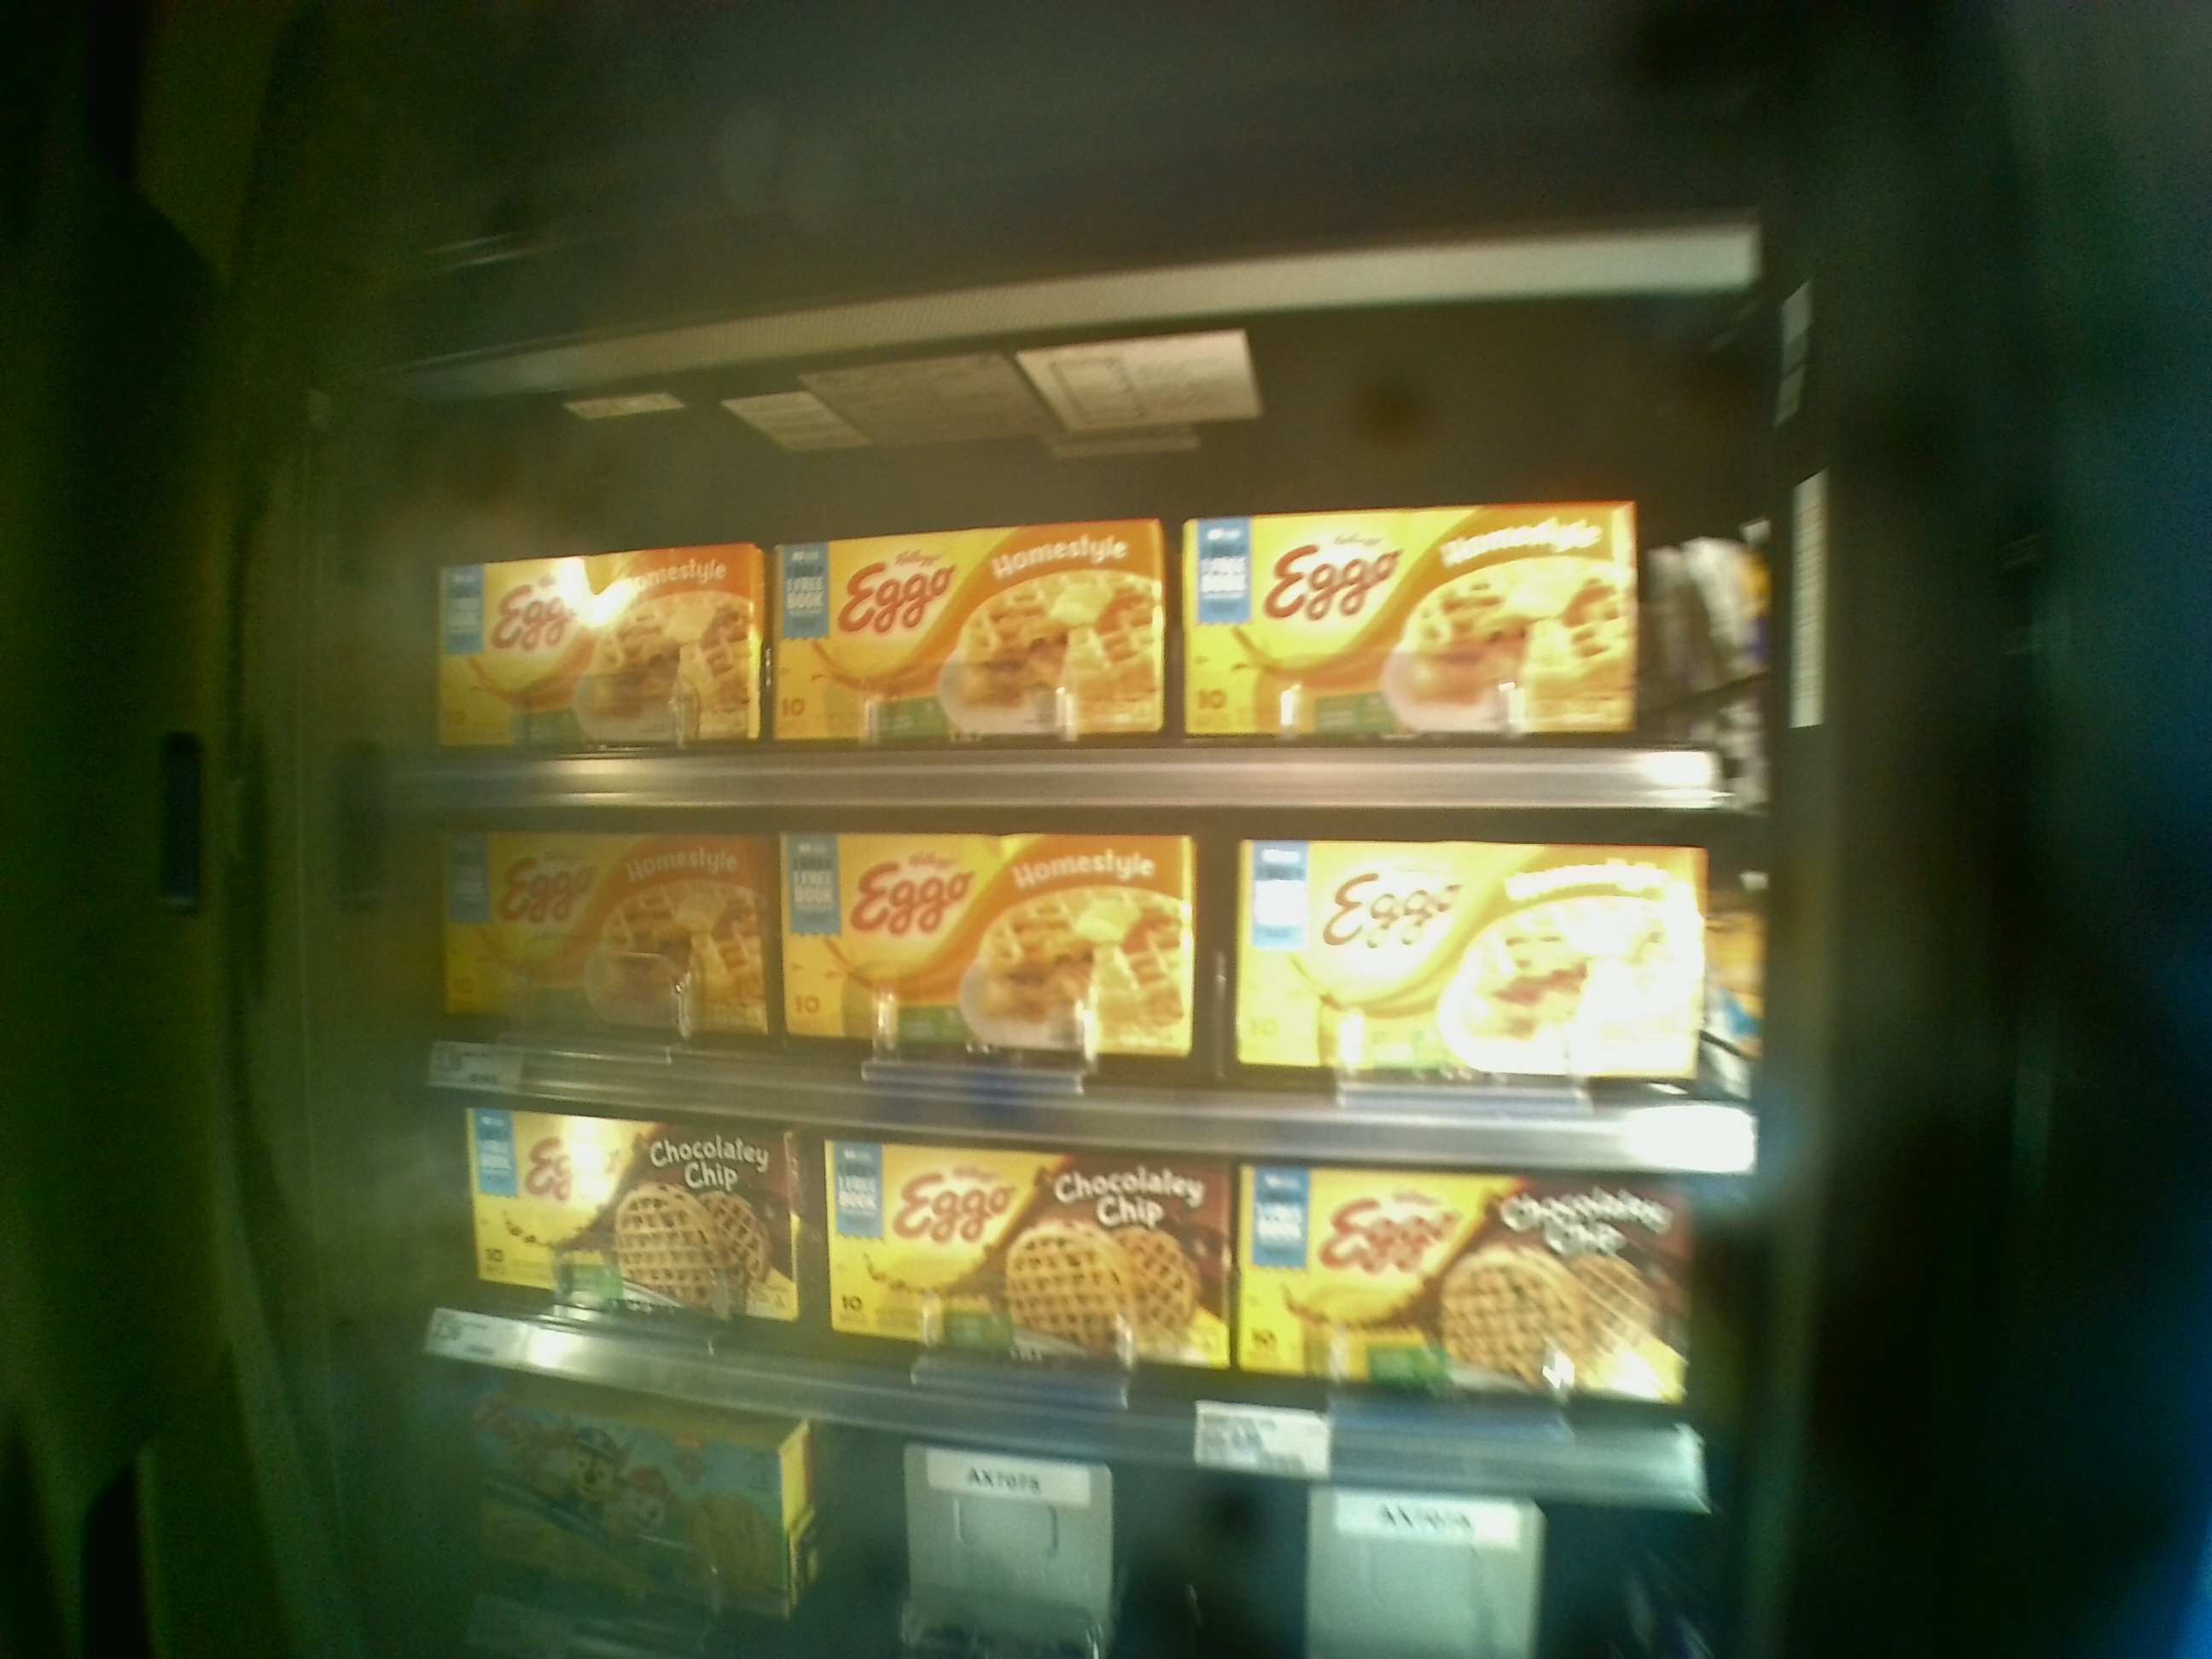shelf: (357, 779, 1773, 1178), (366, 437, 1771, 809)
